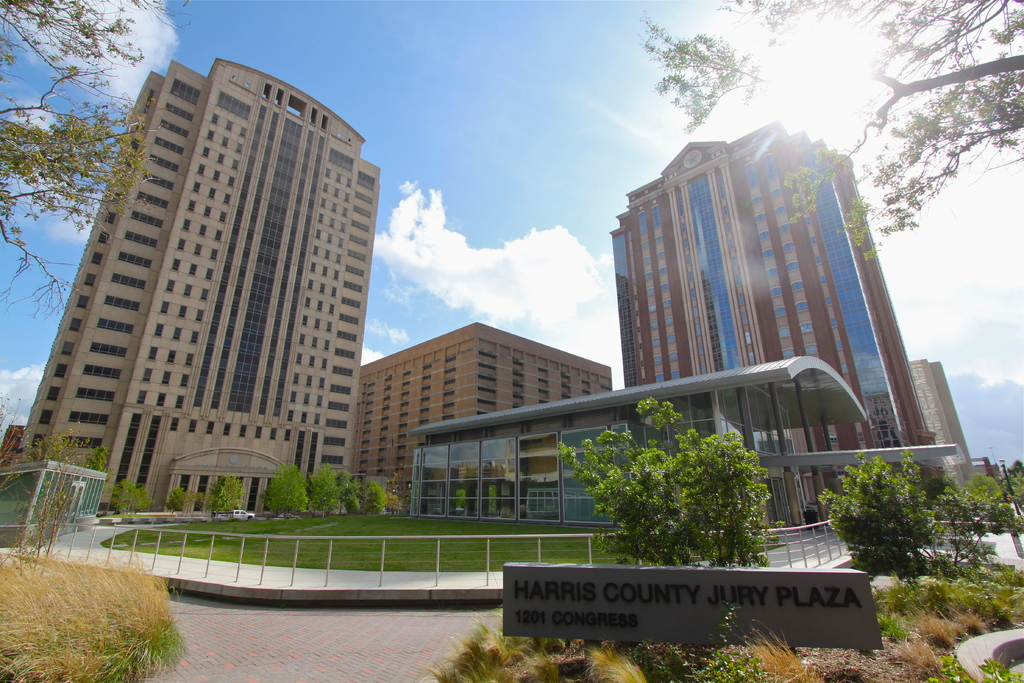Tree: (635, 0, 1024, 264), (0, 0, 194, 321), (259, 460, 400, 519)
